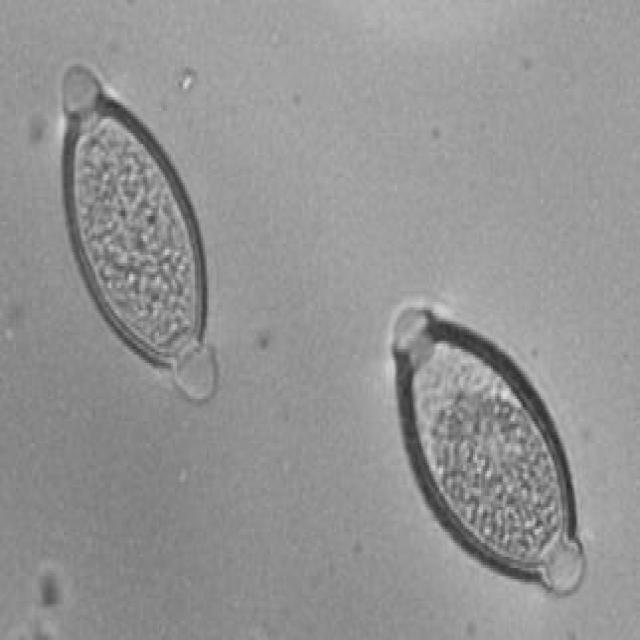Trichuris Trichiura: (51, 54, 222, 425), (389, 302, 597, 607)
